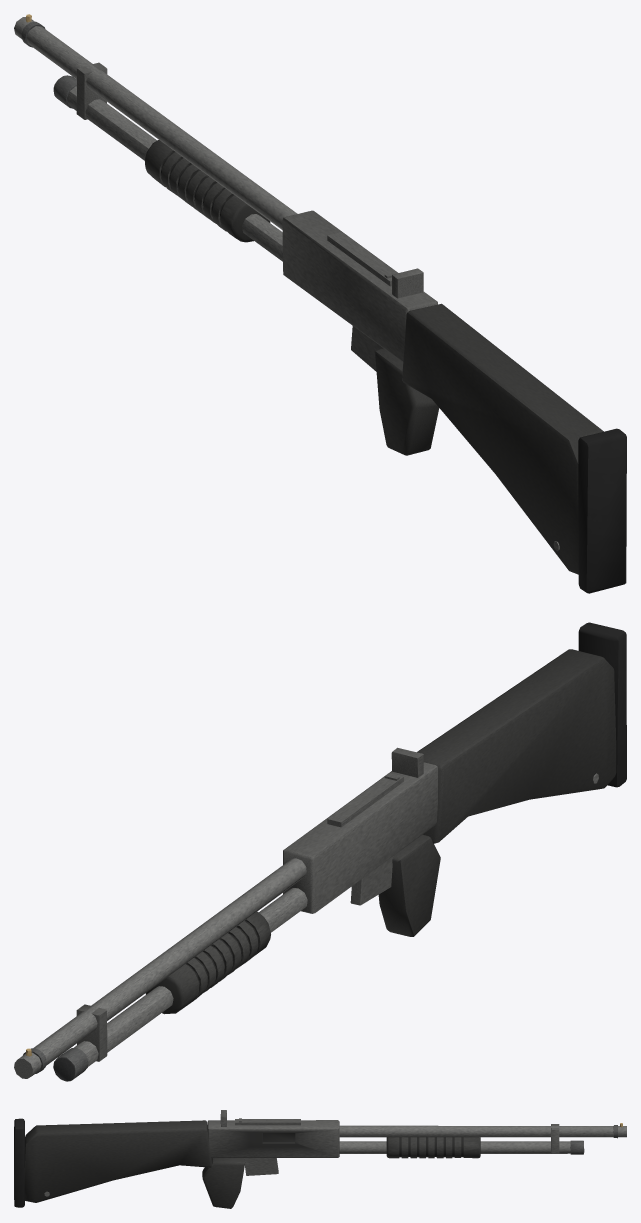
The model's file is SM_WeaponShotgun_LOD1.fbx.
3 renders of one model, top to bottom at view 1: azimuth 30°, elevation 25°; view 2: azimuth 150°, elevation 25°; view 3: azimuth 270°, elevation 25°, orthographic. The views are drawn at different scales.
Parts seen in each view (by area): view 1: SM_WeaponShotgun_LOD1; view 2: SM_WeaponShotgun_LOD1; view 3: SM_WeaponShotgun_LOD1.
Part boxes in pixels (bbox=[...]): SM_WeaponShotgun_LOD1: bbox=[14, 14, 626, 593]; SM_WeaponShotgun_LOD1: bbox=[14, 622, 626, 1081]; SM_WeaponShotgun_LOD1: bbox=[14, 1110, 626, 1208].
Size of the model in its own units: 0.046 by 0.1859 by 1.11.
1 material, 1 textured.
